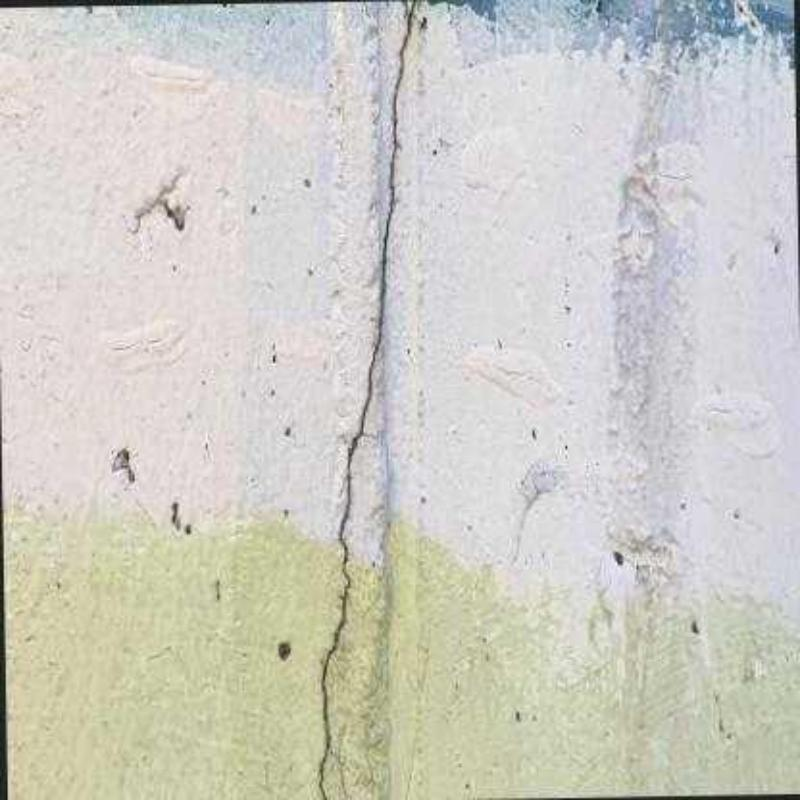crack: (315, 0, 418, 798), (362, 362, 394, 552)
